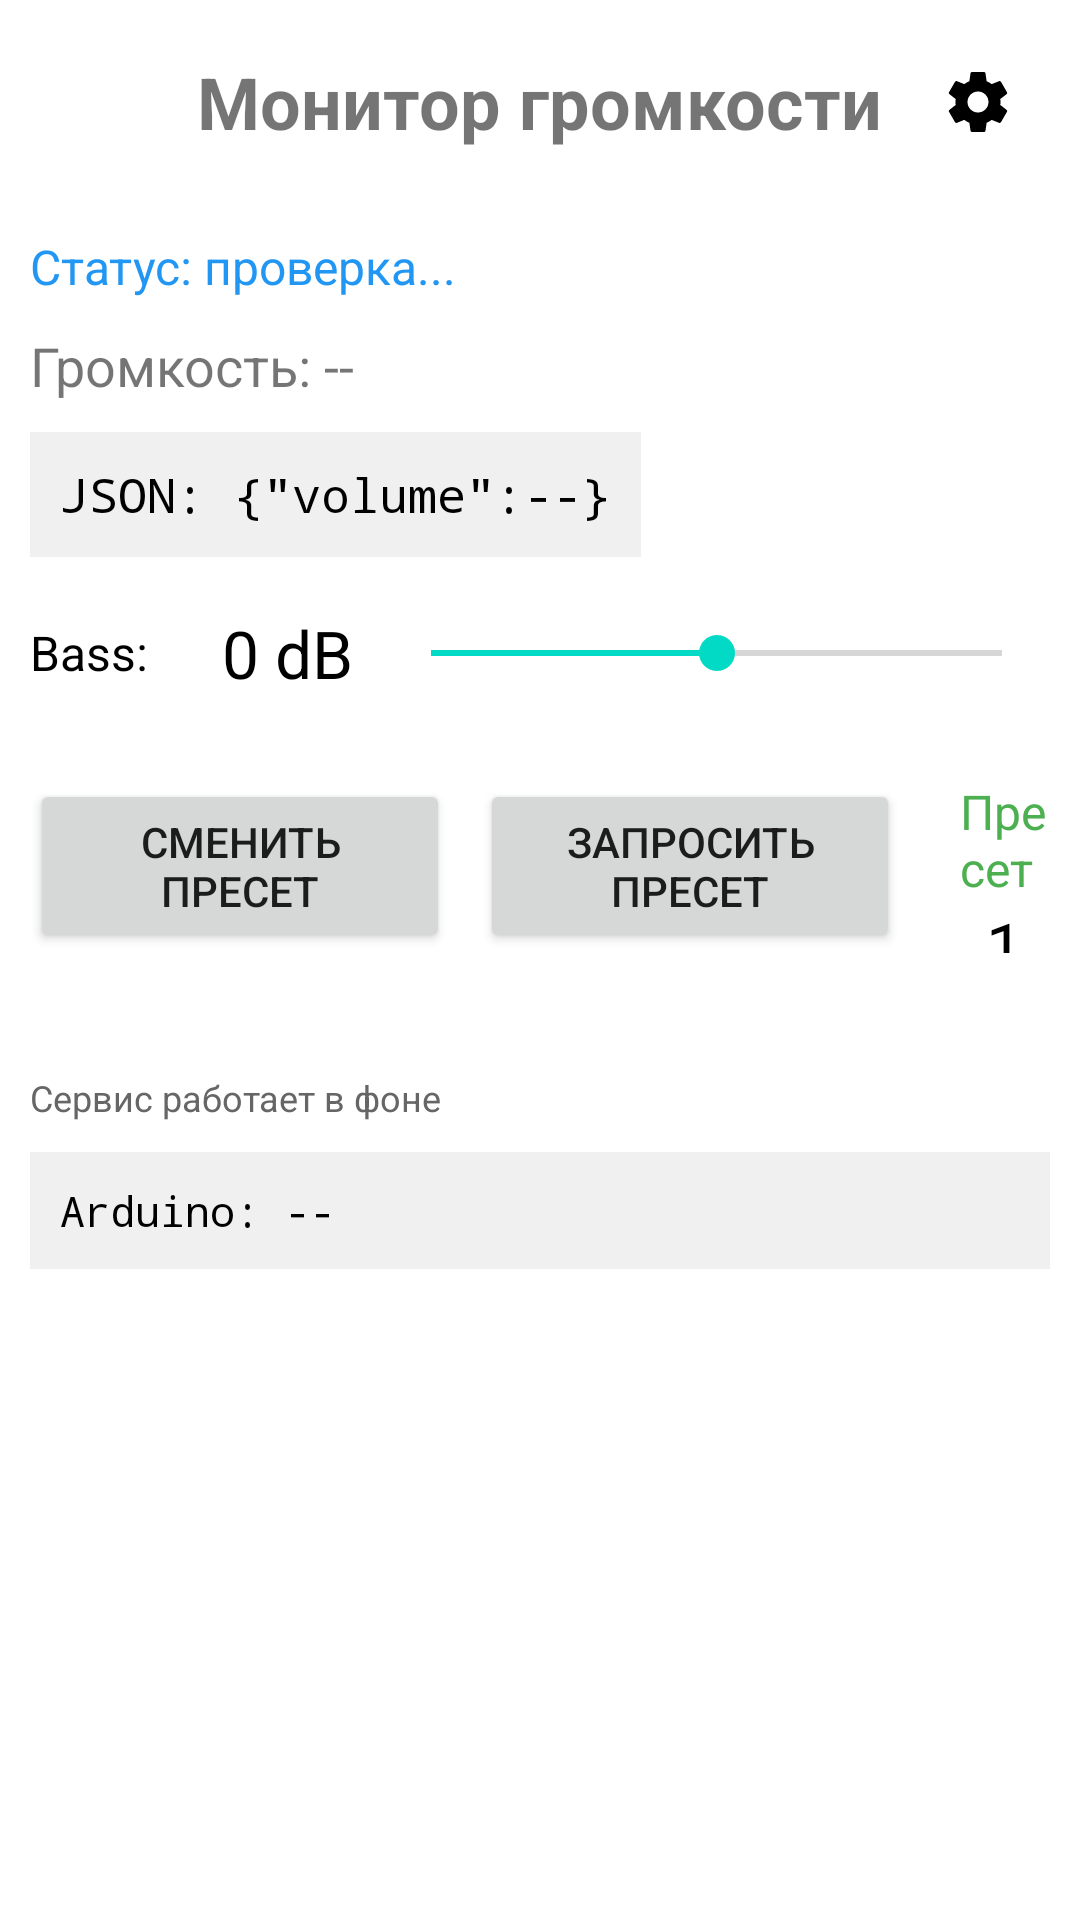

Icons on this 1080*1920 Android screen, each with the point to tap as (x=x, y=y):
Настройки: (x=977, y=102)
